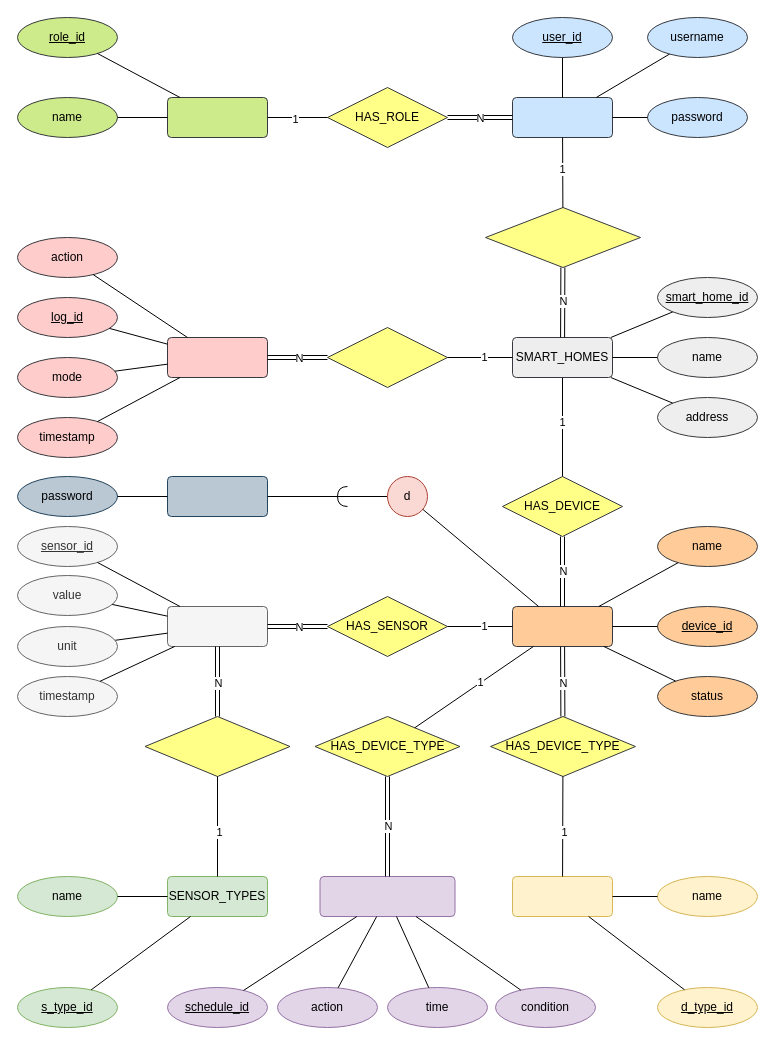
Some shapes in this 775 by 1045 pixel diagram are drawn without their labels. Each missing label, with the centre of its shape:
"DEVICE_TYPES" goes at point 562,896.
"DEVICES" goes at point 562,626.
"HAS_LOG" goes at point 387,357.
"HAS_SENSOR_TYPE" goes at point 217,746.
"HAS_SMART_HOME" goes at point 562,237.
"LOGS" goes at point 217,357.
"ROLES" goes at point 217,117.
"SCHEDULES" goes at point 387,896.
"SENSORS" goes at point 217,626.
"SERVOS" goes at point 217,496.
"USERS" goes at point 562,117.
